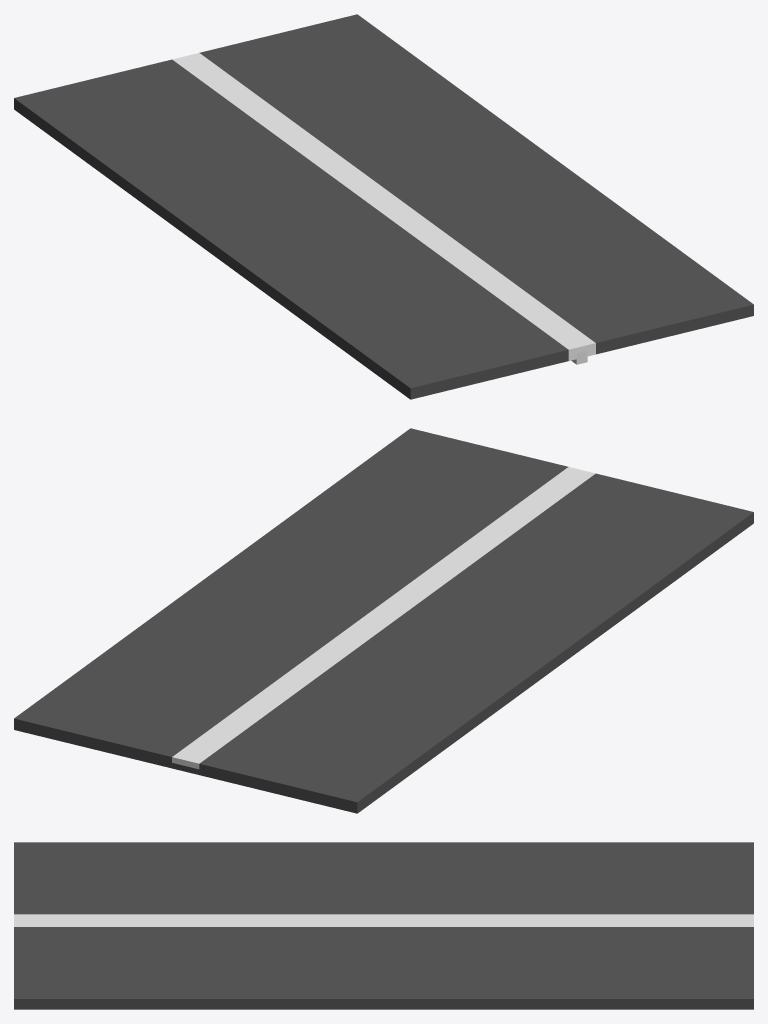
Rendered from road1.glb.
The picture shows the model from 3 angles, top to bottom: view 1: azimuth 30°, elevation 25°; view 2: azimuth 150°, elevation 25°; view 3: azimuth 270°, elevation 25°; orthographic projection. The views are drawn at different scales.
Parts seen in each view (by area): view 1: дорога1; view 2: дорога1; view 3: дорога1.
Part boxes in pixels (left/top/right/bottom): дорога1: left=14, top=14, right=753, bottom=399; дорога1: left=14, top=428, right=753, bottom=813; дорога1: left=14, top=842, right=753, bottom=1009.
Bounding box in the file's own units: 63 × 3 × 126.
2 materials, 1 textured.
